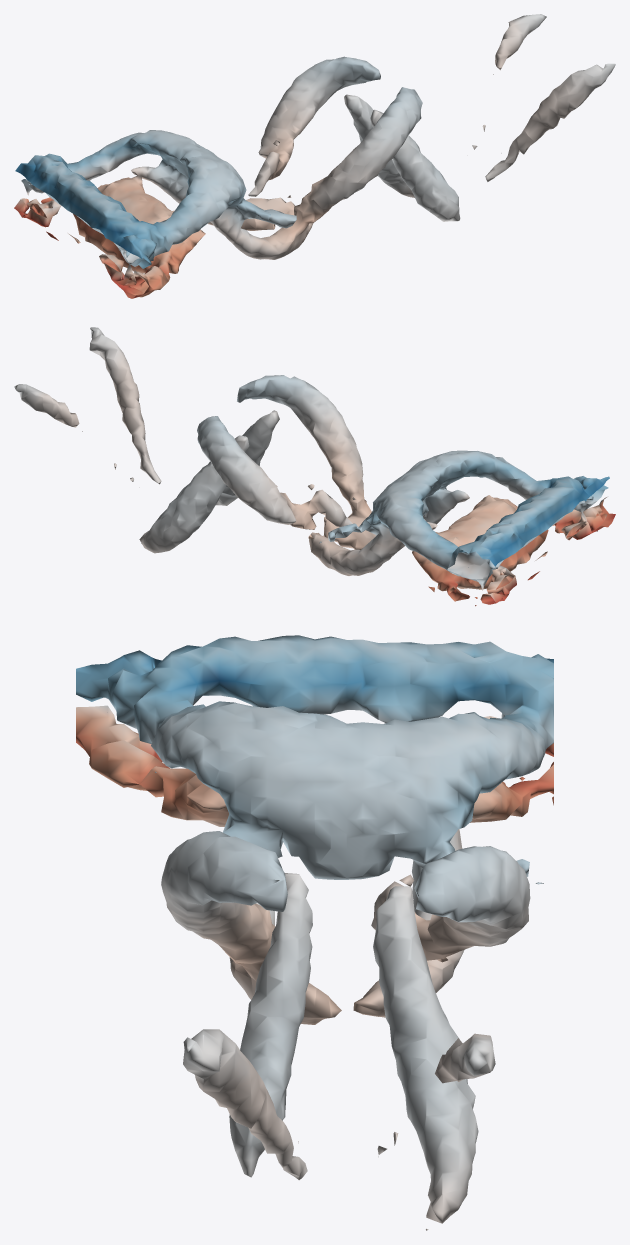
3 renders of one model, top to bottom at view 1: azimuth 30°, elevation 25°; view 2: azimuth 150°, elevation 25°; view 3: azimuth 270°, elevation 25°, orthographic. The views are drawn at different scales.
Bounding box in the file's own units: 6.07 × 1.79 × 2.5.
